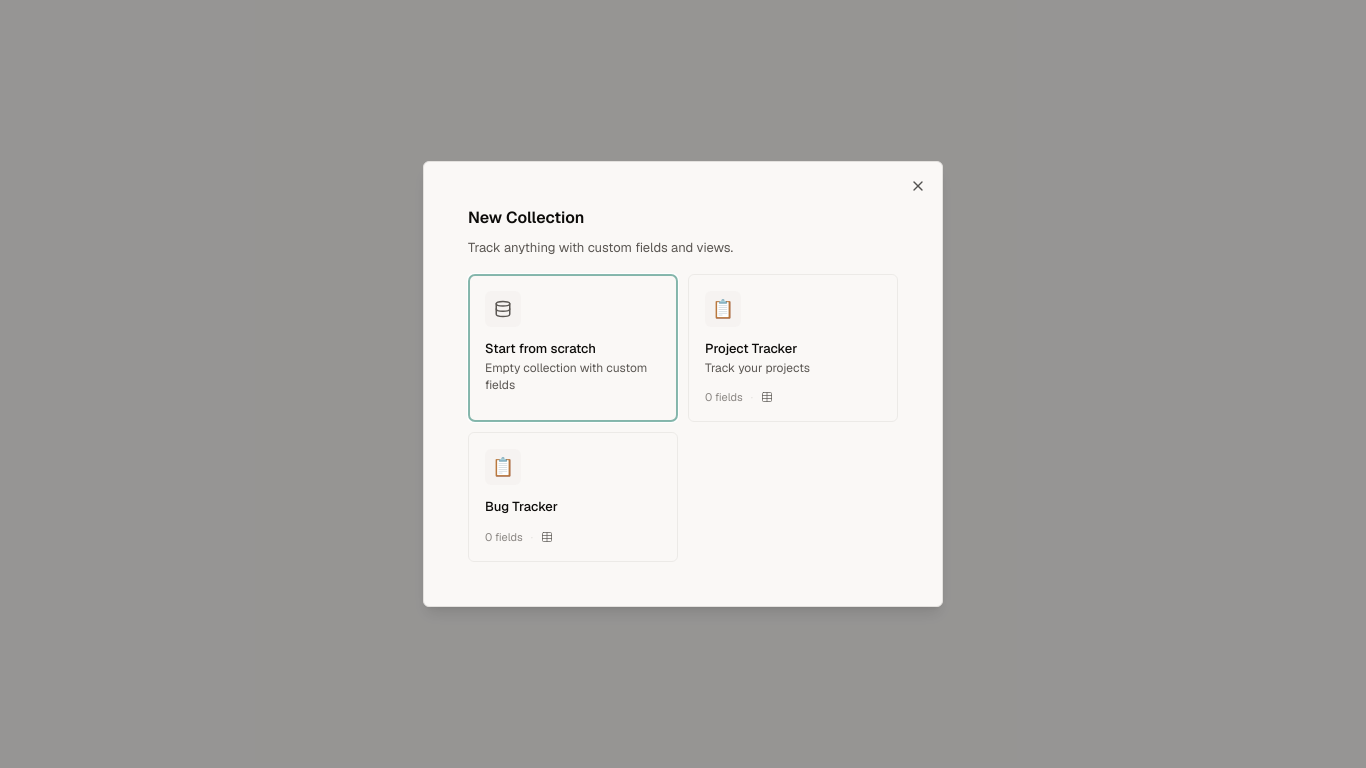
it: CollectionCreateDialog › shows back button on name step that returns to pick step
Click the text "Start from scratch" at (540, 348), box [485,340,596,356]
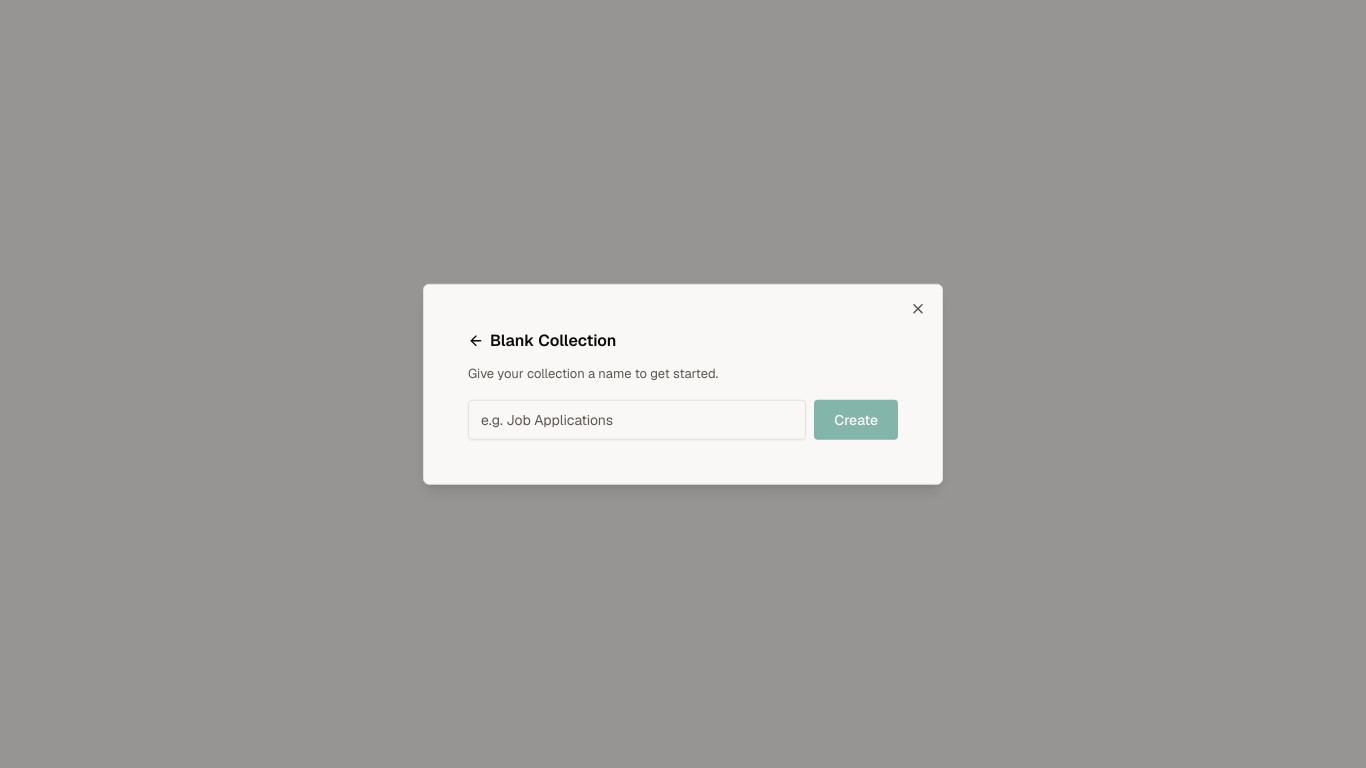
Expected: the button "Blank Collection" is shown
Click the button "Blank Collection" at (542, 341), box [468,329,616,353]
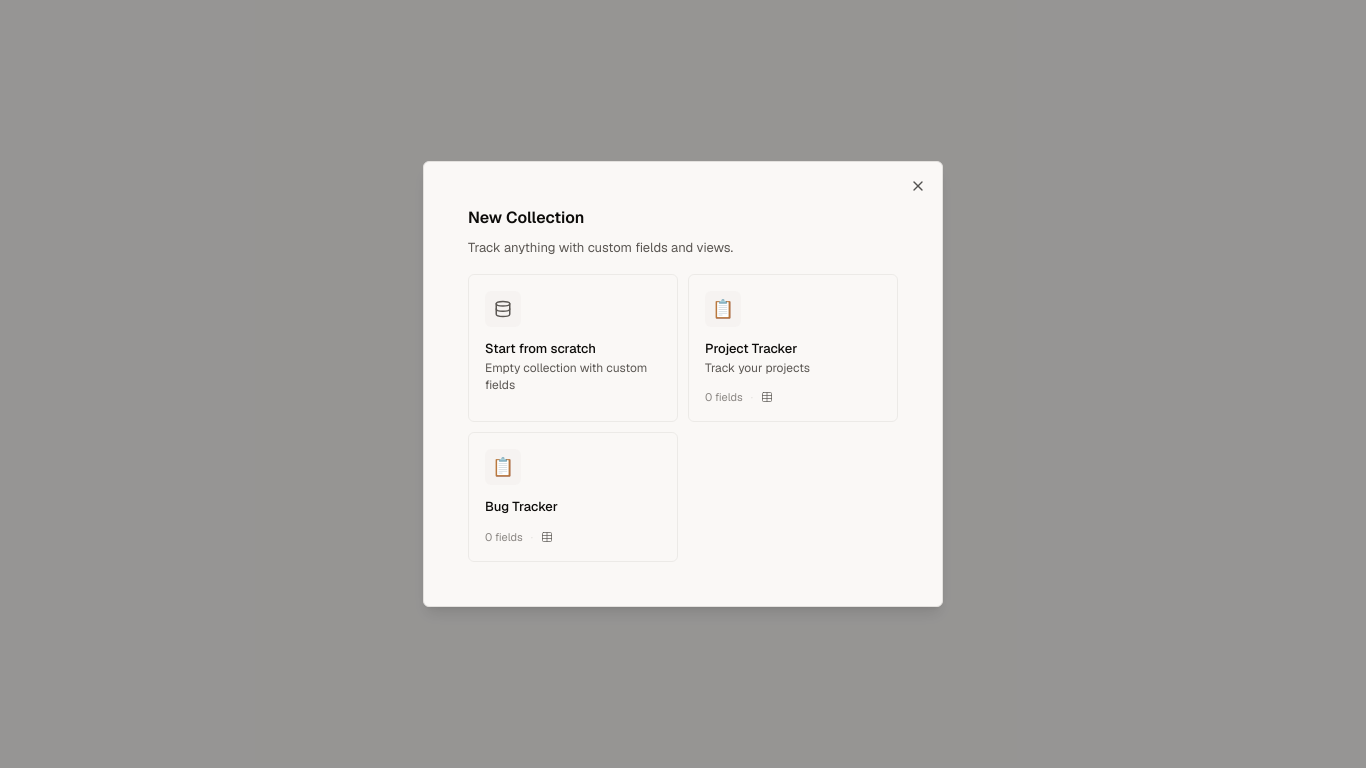
Expected: the heading "New Collection" is shown, [468,207,584,228]
